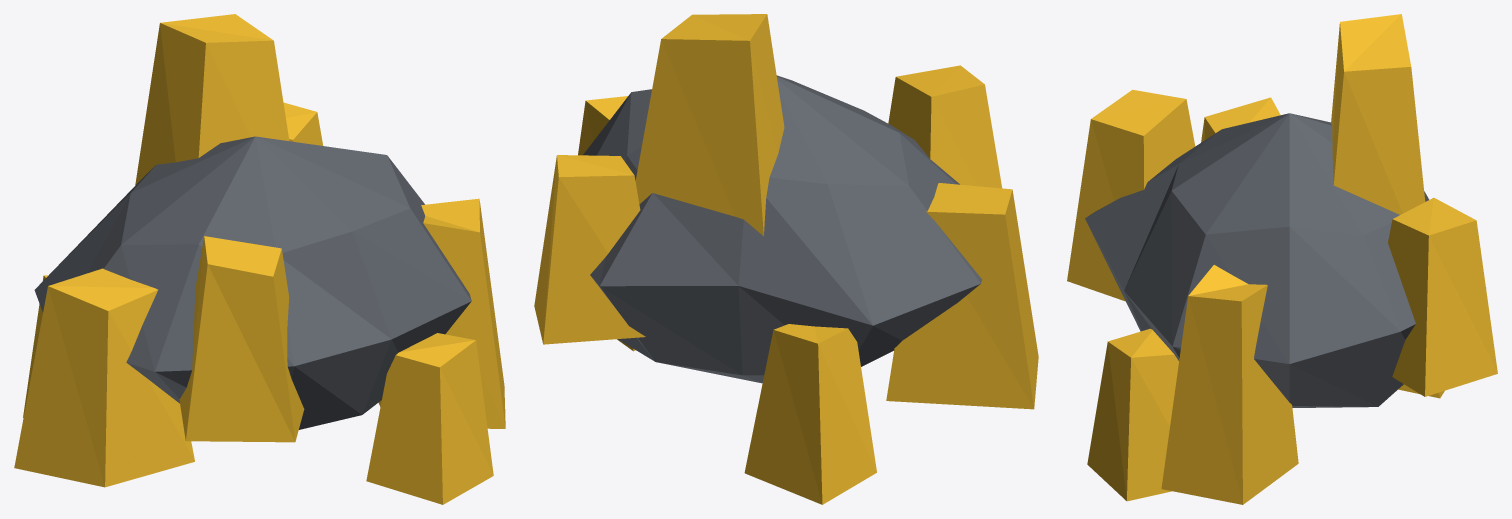
Rendered from light_stone.obj.
3 renders of one model, left to right at view 1: azimuth 30°, elevation 25°; view 2: azimuth 150°, elevation 25°; view 3: azimuth 270°, elevation 25°, orthographic. The views are drawn at different scales.
Visible parts, largest first — view 1: Body, GlowShard_01, GlowShard_04, GlowShard_03, GlowShard_07, GlowShard_02, GlowShard_05; view 2: Body, GlowShard_03, GlowShard_01, GlowShard_06, GlowShard_05, GlowShard_04, GlowShard_02; view 3: Body, GlowShard_02, GlowShard_05, GlowShard_03, GlowShard_04, GlowShard_07, GlowShard_01.
Boxes of the visible parts, x1,y1,x2,y2 form: Body: [34, 136, 471, 429]; GlowShard_01: [14, 268, 194, 487]; GlowShard_04: [179, 236, 304, 442]; GlowShard_03: [135, 14, 289, 185]; GlowShard_07: [366, 333, 493, 504]; GlowShard_02: [378, 198, 505, 428]; GlowShard_05: [283, 102, 323, 145]; Body: [583, 75, 981, 383]; GlowShard_03: [635, 14, 784, 236]; GlowShard_01: [886, 183, 1038, 409]; GlowShard_06: [744, 324, 876, 504]; GlowShard_05: [534, 155, 645, 344]; GlowShard_04: [888, 65, 1001, 188]; GlowShard_02: [578, 96, 635, 351]; Body: [1085, 113, 1429, 407]; GlowShard_02: [1161, 265, 1298, 504]; GlowShard_05: [1388, 197, 1497, 396]; GlowShard_03: [1331, 14, 1425, 214]; GlowShard_04: [1067, 89, 1195, 301]; GlowShard_07: [1087, 328, 1178, 501]; GlowShard_01: [1201, 97, 1280, 142].
Size of the model in its own units: 2.59 by 2.08 by 2.07.
